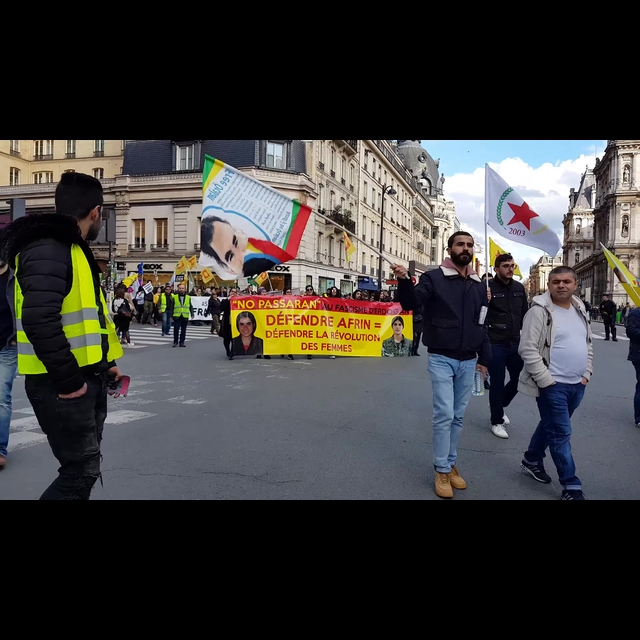PYD: (494, 180, 555, 241)
